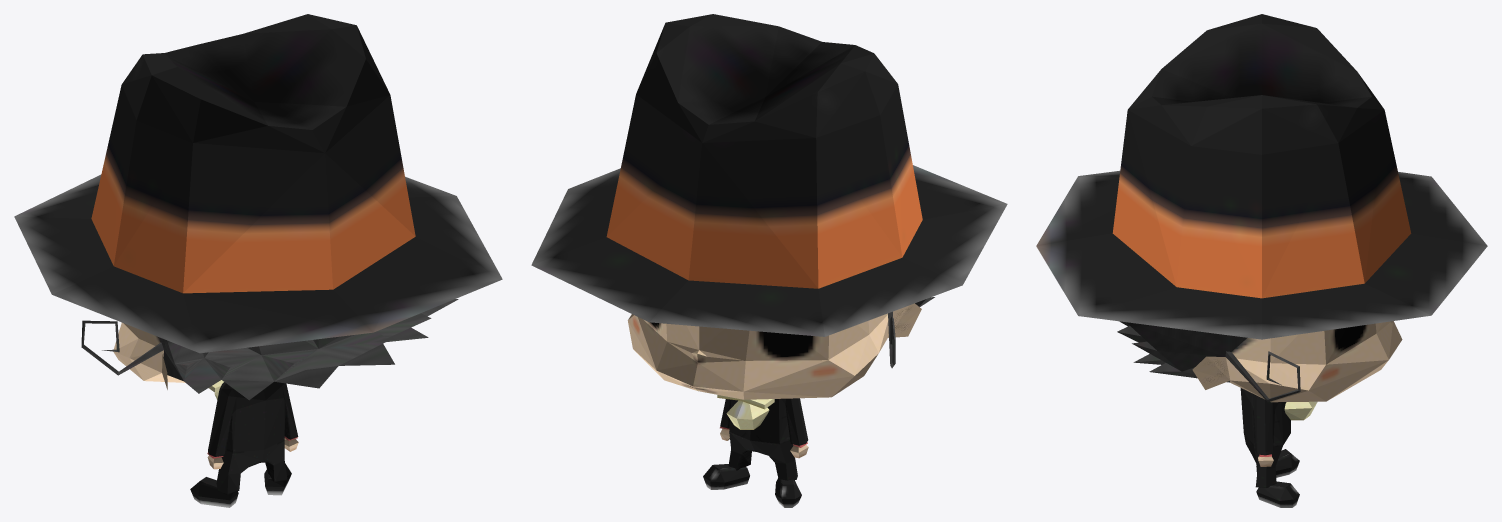
Rendered from reborn.ico.obj.
3 renders of one model, left to right at view 1: azimuth 30°, elevation 25°; view 2: azimuth 150°, elevation 25°; view 3: azimuth 270°, elevation 25°, orthographic. The views are drawn at different scales.
Size of the model in its own units: 4.6 by 4.92 by 4.7.
Materials: 1 (1 with a texture image).
